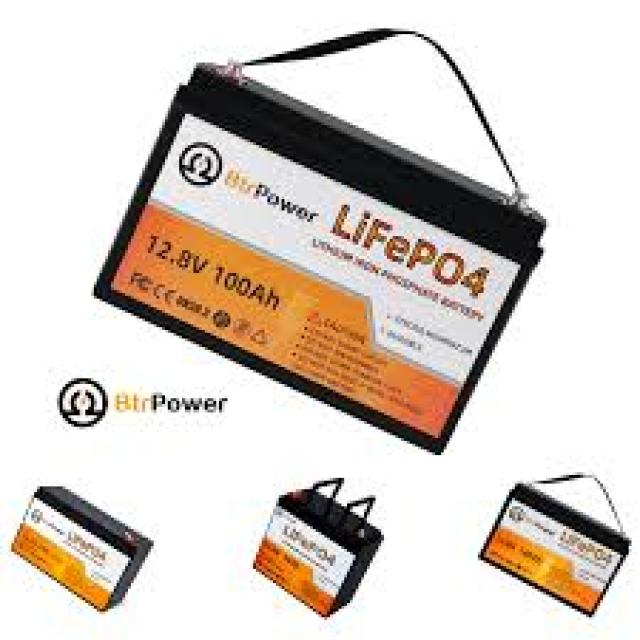Battery: (94, 63, 543, 452), (478, 472, 629, 614), (11, 486, 151, 609), (259, 478, 378, 614)
